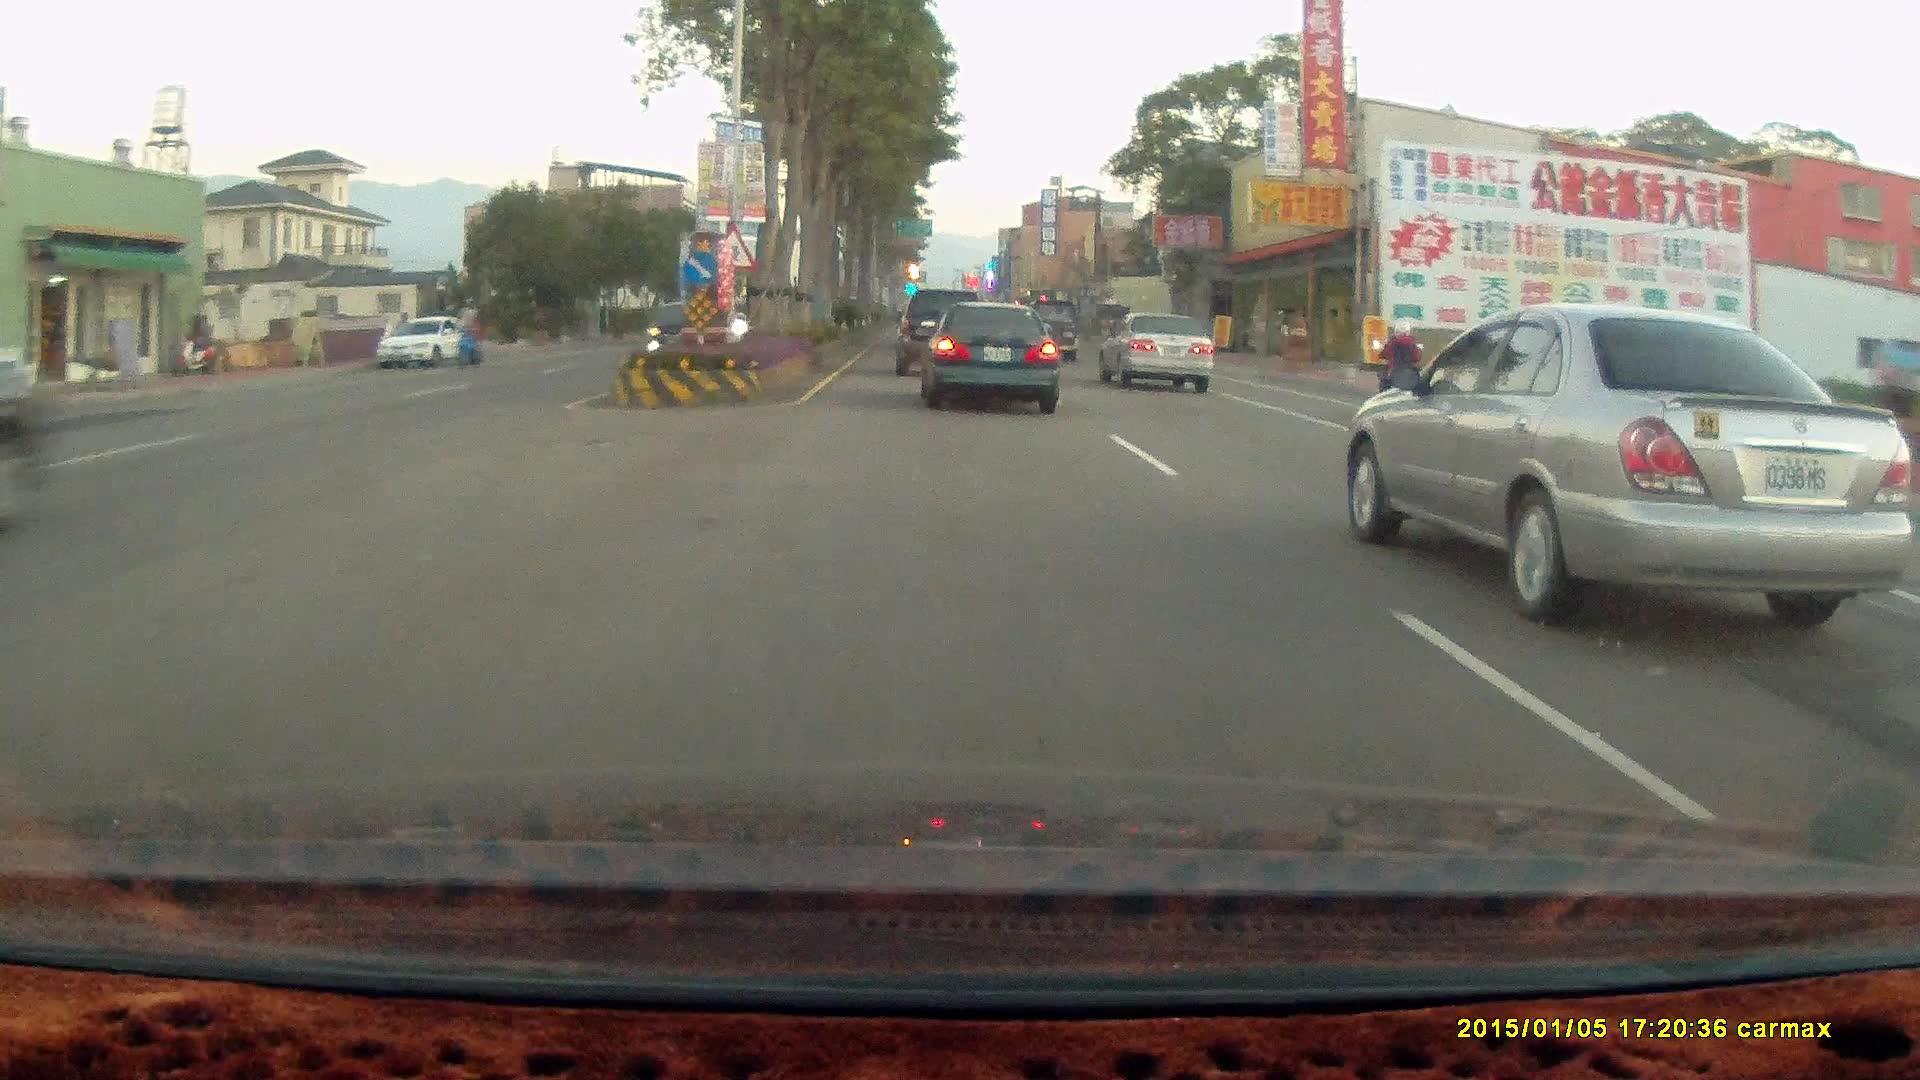rider: (1365, 310, 1438, 424), (1367, 309, 1418, 415), (451, 297, 485, 363)
vehicle: (1352, 288, 1920, 619), (918, 300, 1061, 419), (915, 299, 1059, 412), (0, 351, 60, 539), (1097, 311, 1219, 395), (1094, 309, 1214, 392), (892, 288, 990, 380), (893, 282, 982, 370), (374, 315, 470, 372), (647, 301, 729, 362), (647, 300, 731, 361), (1013, 294, 1079, 360)
